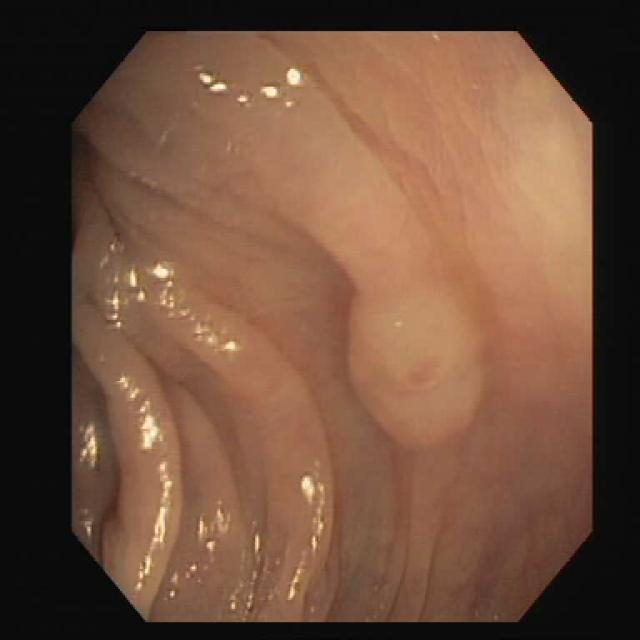tumor: (347, 236, 483, 444)
